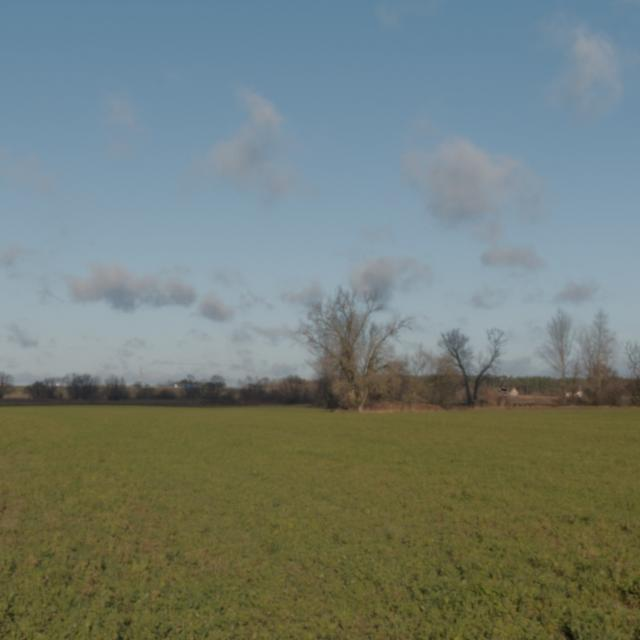Airaplan: (498, 385, 509, 394)
